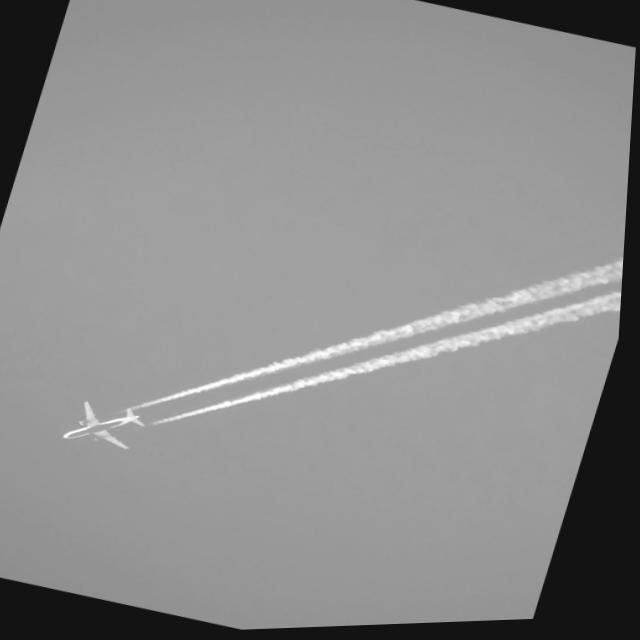aeroplane: (62, 390, 162, 461)
